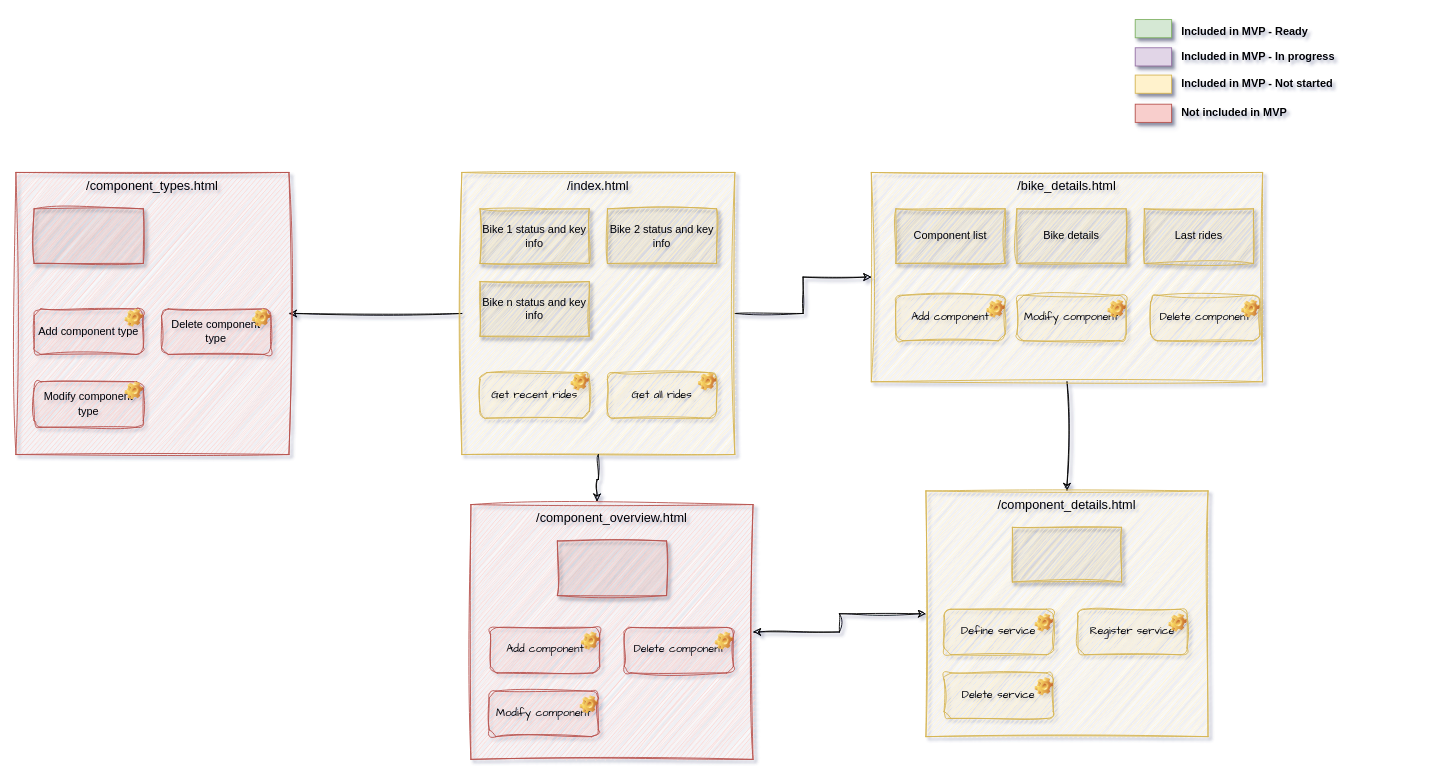
Some shapes in this 1430 by 781 pixel diagram are drawn without their labels. The centre of each missing label's shape, as x and y in pixels:
"Component details" goes at [1067,555].
"Component type list" goes at [89,237].
"List of all components" goes at [612,569].
